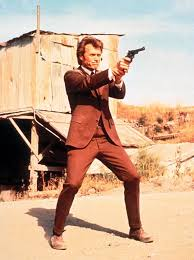Gun: (122, 45, 145, 63)
